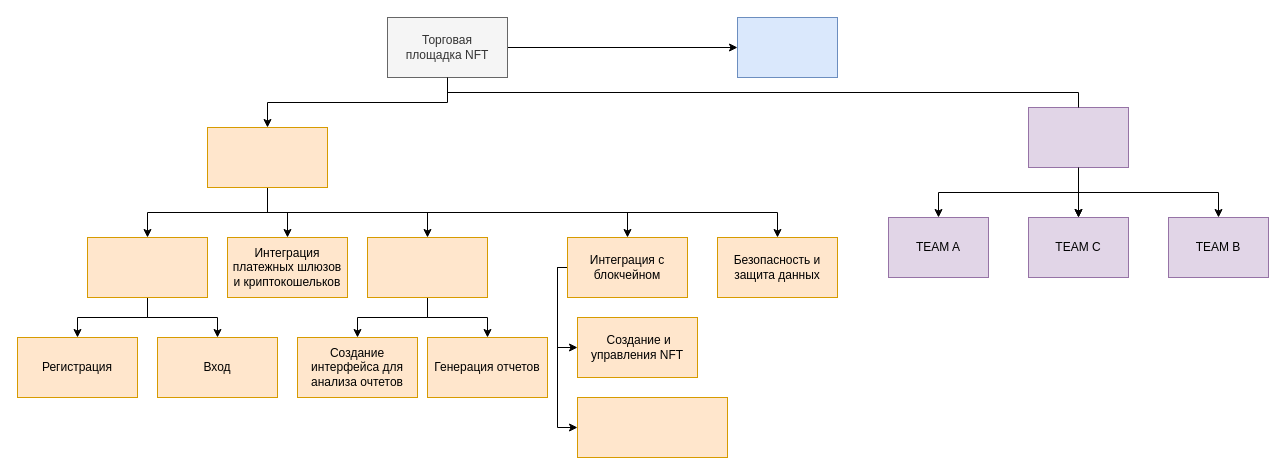
The diagram is 1286 pixels wide and 475 high, and some of its shapes have lost their labels. Each missing label, with the box of its shape:
Development: (1028, 106, 1128, 168)
Quality Assurance: (736, 16, 838, 78)
Авторизация через криптокошелек: (86, 236, 208, 298)
Разработка смарт-контрактов, обеспечение права собственности и передачу NFT.: (576, 396, 728, 458)
Реализация системы отчетов: (366, 236, 488, 298)
Функциональность для авторов цифрового контента: (206, 126, 328, 188)
